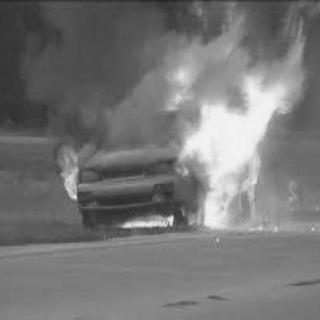Fire: (44, 32, 306, 236)
